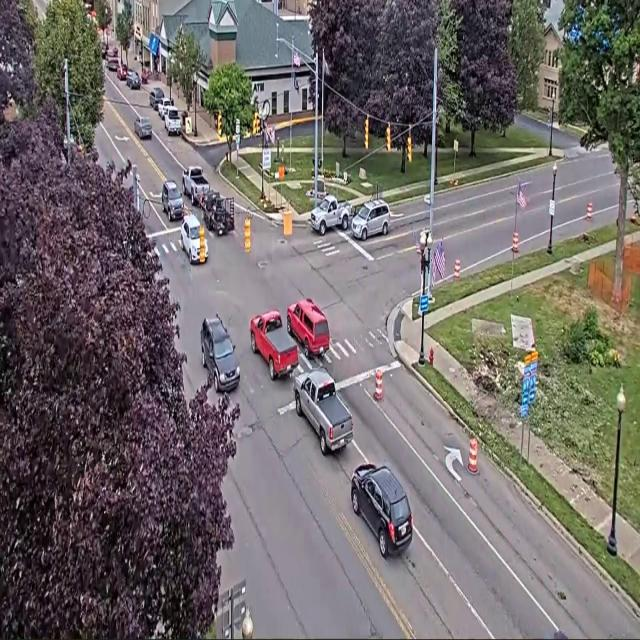car: (351, 464, 413, 557), (201, 314, 239, 391), (287, 299, 329, 358), (352, 200, 390, 240), (181, 214, 201, 263), (162, 181, 184, 220), (164, 106, 182, 136), (134, 117, 152, 139), (157, 97, 173, 119), (149, 88, 164, 111), (126, 69, 142, 90), (117, 64, 128, 80), (107, 58, 119, 71), (101, 43, 108, 59)
traffic signal: (364, 117, 369, 149), (253, 112, 259, 135), (407, 135, 412, 162), (386, 125, 391, 151), (217, 112, 222, 137)
truck: (294, 368, 353, 455), (250, 311, 298, 381), (310, 195, 351, 235), (202, 191, 234, 235), (182, 166, 210, 207)
